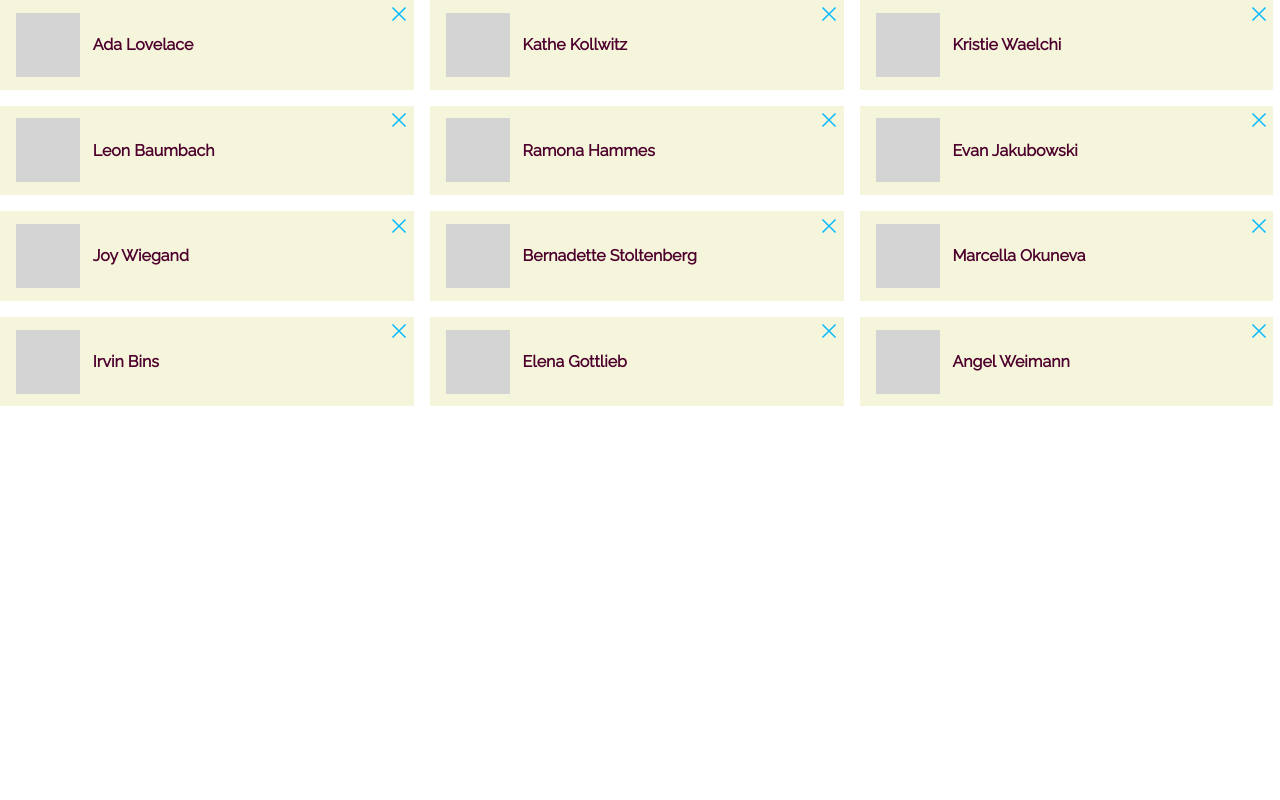
Scenario: Delete employee › clicking on the OK button deletes the employee
Expected: the heading "Ada Lovelace" is shown, [93,35,193,54]
Click the 1st button named "Delete employee". click: (399, 14)
box: [391,6,407,22]
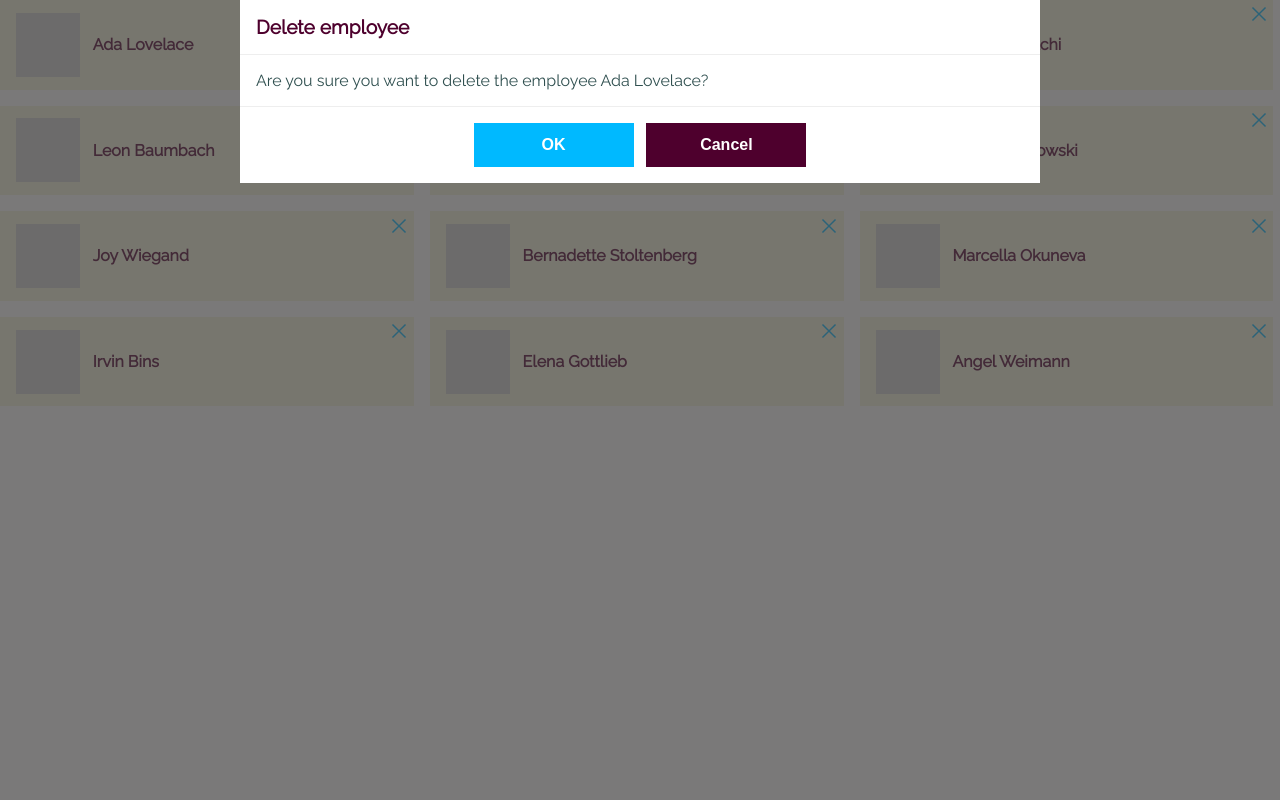
Click the button "OK". click: (554, 145)
box: [474,123,634,167]
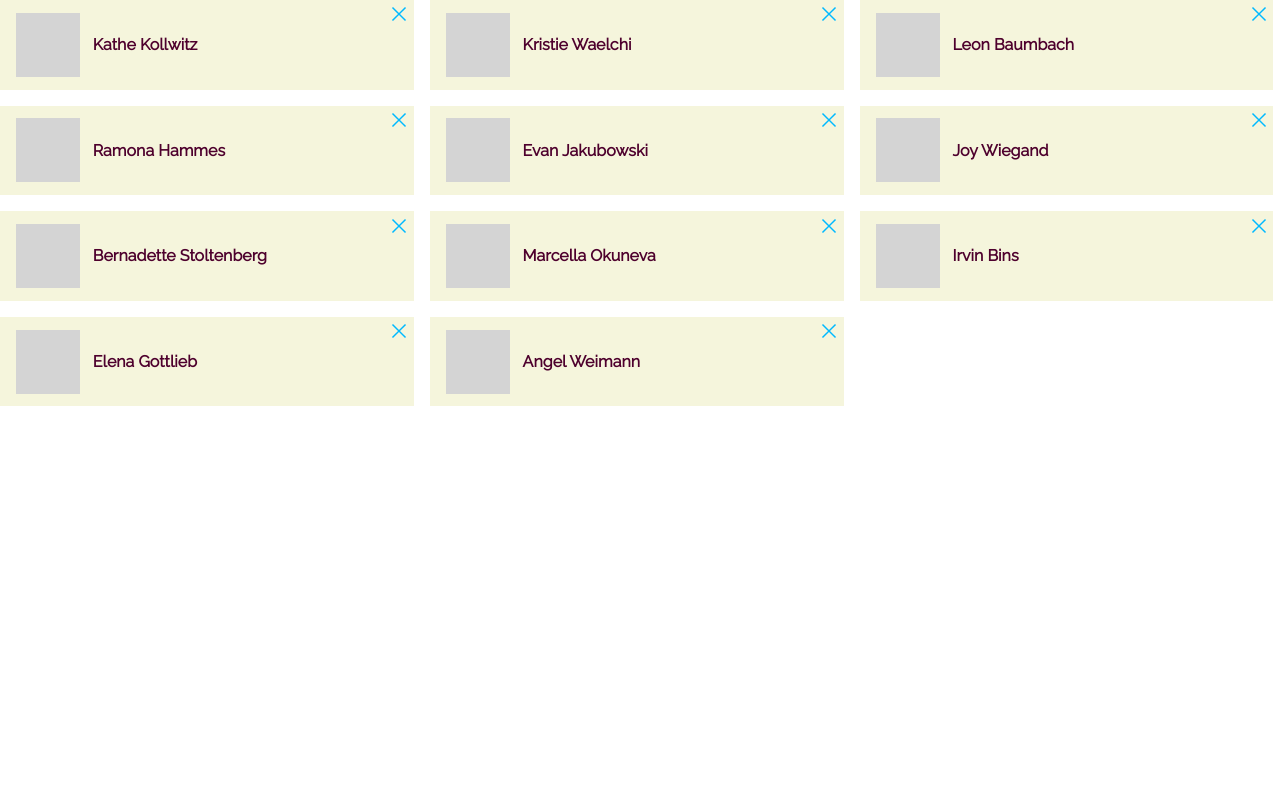
Result: the text "Ada Lovelace" is gone
